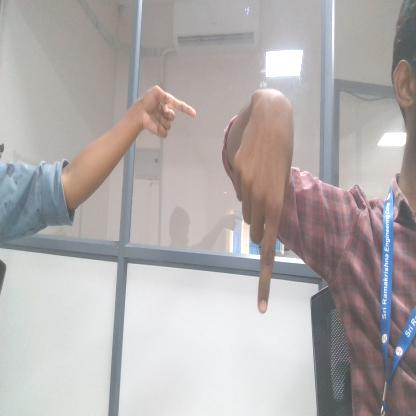Down: (239, 88, 289, 315)
Left: (138, 74, 200, 144)
